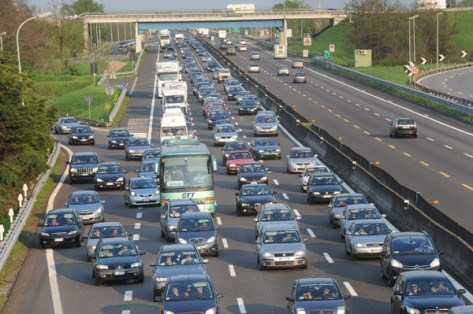car: (388, 273, 470, 313), (87, 242, 149, 287), (382, 232, 447, 273), (35, 203, 83, 250), (252, 230, 306, 271), (341, 216, 395, 257), (292, 273, 346, 314), (163, 273, 217, 314), (178, 215, 219, 253), (236, 183, 276, 215), (67, 190, 102, 222), (125, 176, 160, 206), (69, 153, 101, 181), (94, 162, 126, 190), (239, 159, 272, 184), (249, 134, 282, 159), (249, 112, 282, 137), (209, 120, 242, 145), (69, 124, 96, 145), (105, 128, 132, 149), (290, 69, 310, 85), (248, 63, 262, 76)
